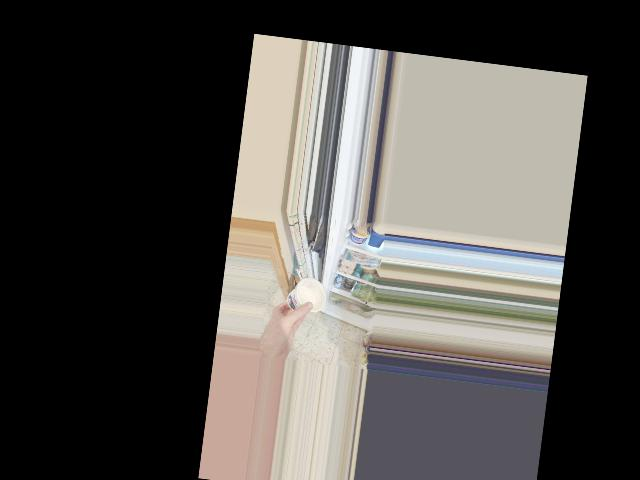cotage: (282, 272, 327, 317)
